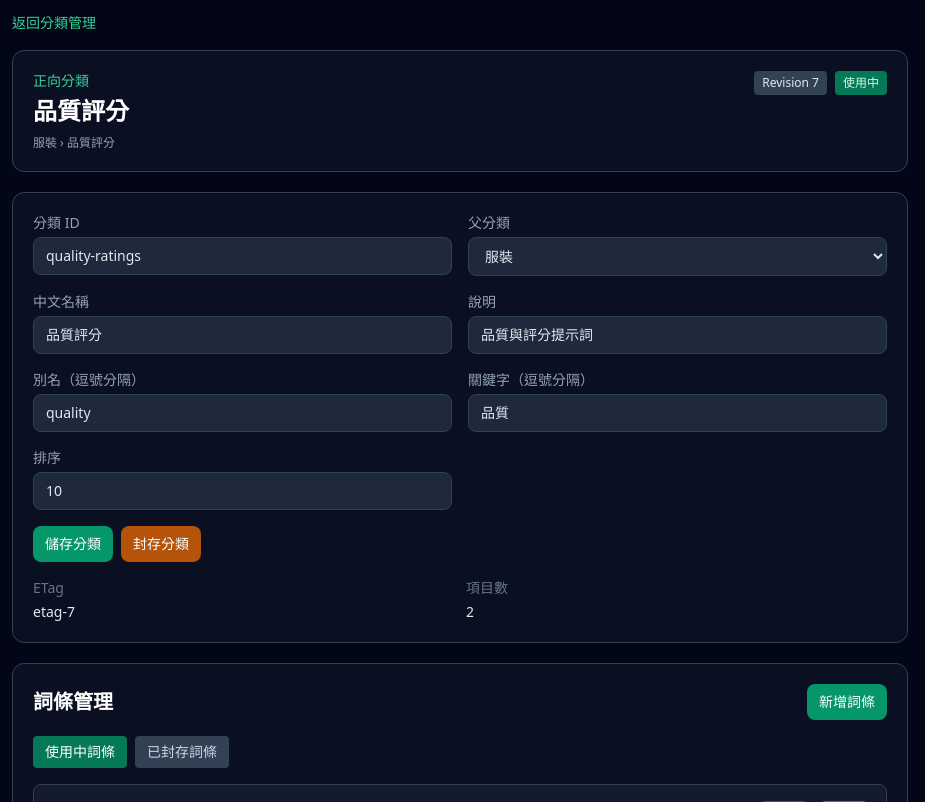
Test case: PromptCategoryDetail › refreshes the catalog after a successful save so the breadcrumb reflects the new hierarchy
The image size is (925, 802).
Expected: the heading "品質評分" is shown, top-left (33, 95), bottom-right (129, 127)
Expected: the navigation bar named "分類路徑" reads "服裝 › 品質評分", top-left (33, 134), bottom-right (115, 151)
Replace the text in the field named "分類中文名稱" with "新版品質" at (242, 335), box top-left (33, 316), bottom-right (452, 354)
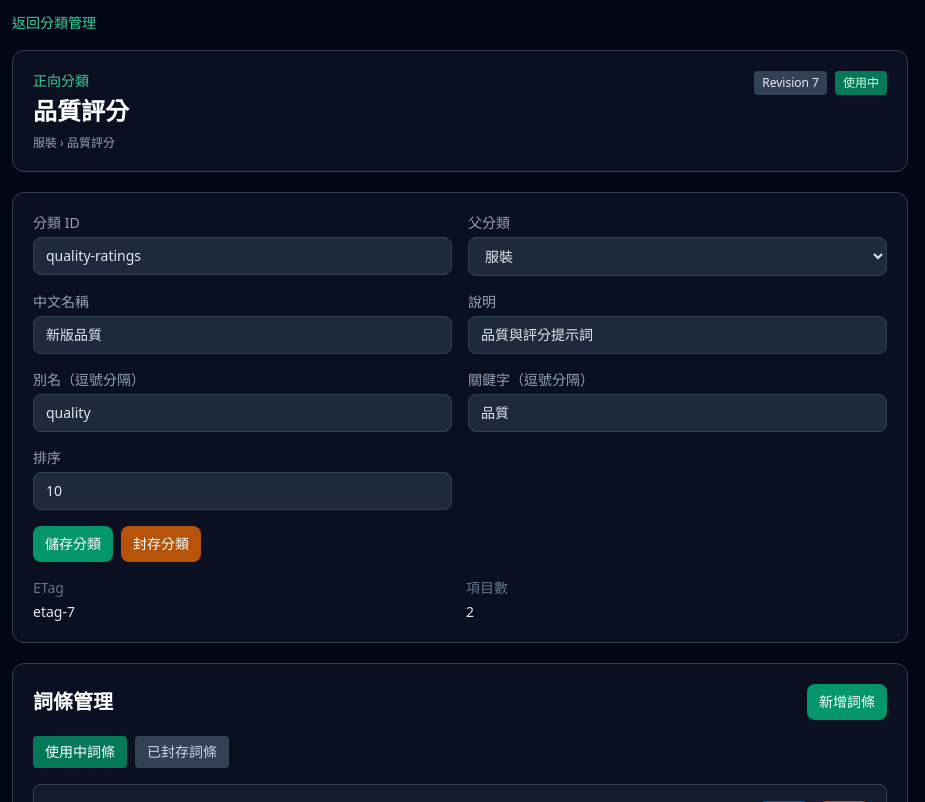
Click the button "儲存分類" at (73, 544), box top-left (33, 526), bottom-right (113, 562)
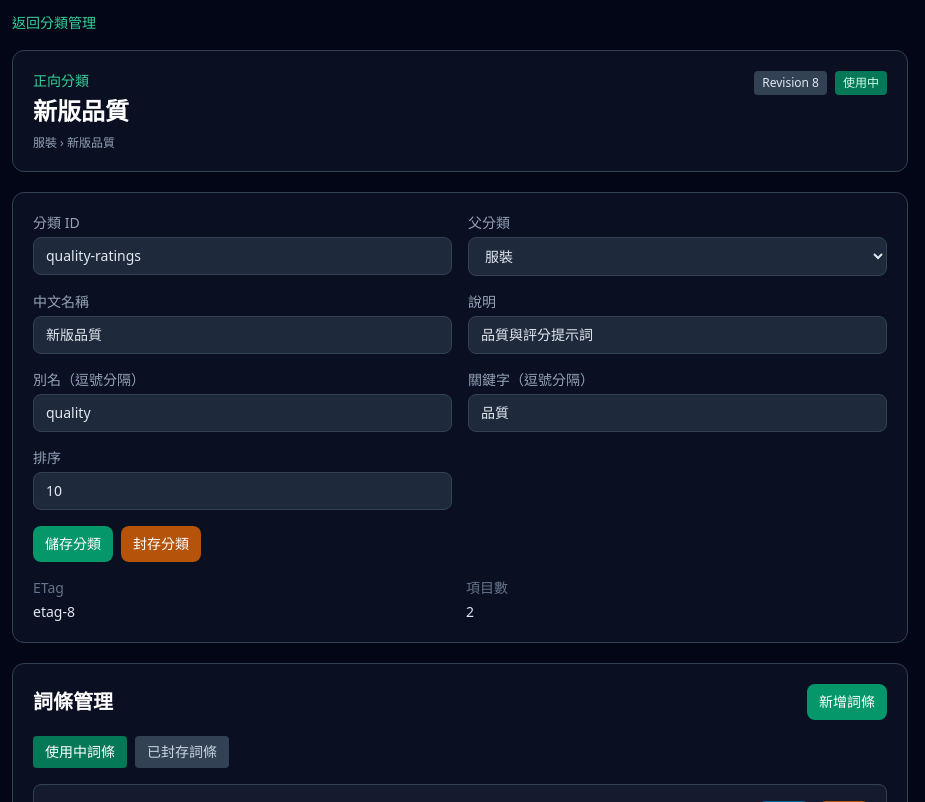
Now the heading "新版品質" is shown, box top-left (33, 95), bottom-right (129, 127)
Now the navigation bar named "分類路徑" reads "服裝 › 新版品質", box top-left (33, 134), bottom-right (115, 151)
